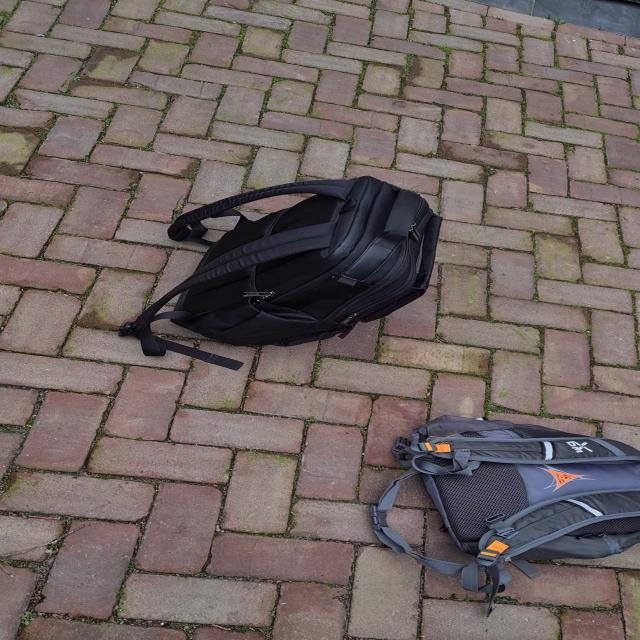backpack: (128, 168, 452, 350), (375, 408, 640, 567)
